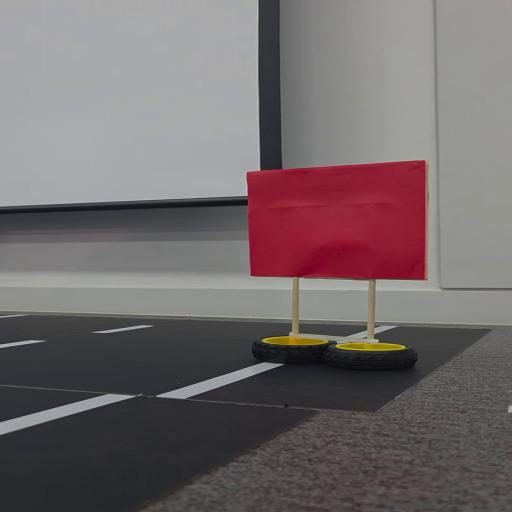Sign_A: (237, 158, 441, 372)
